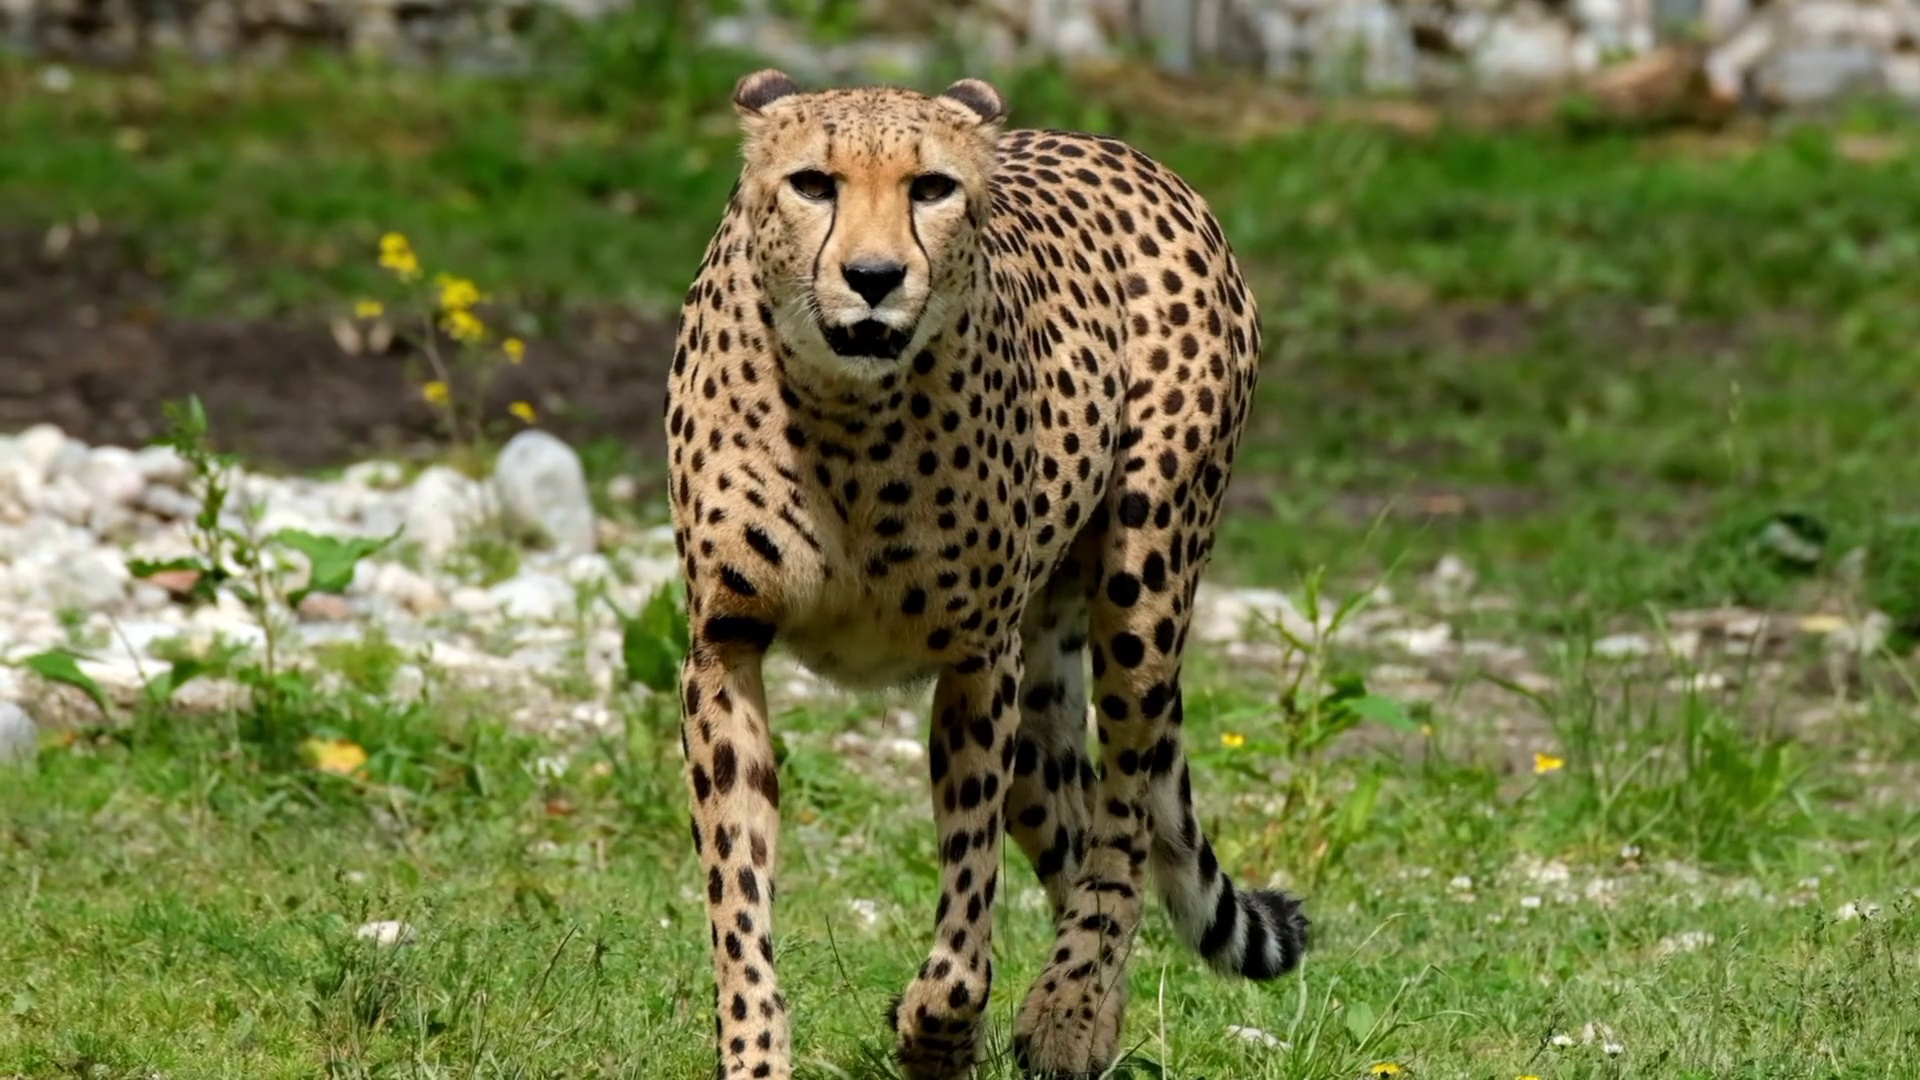Cheetah: (659, 65, 1317, 1080)
